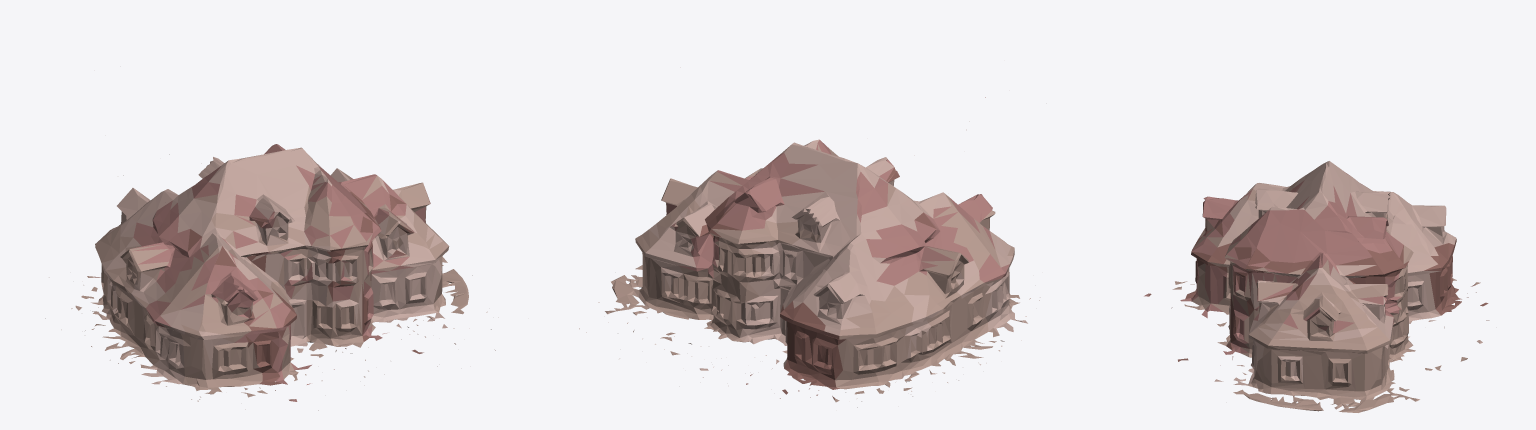
Rendered from mansion.glb.
3 views of the same model, side by side, from view 1: azimuth 30°, elevation 25°; view 2: azimuth 150°, elevation 25°; view 3: azimuth 270°, elevation 25° (orthographic). The views are drawn at different scales.
Parts seen in each view (by area): view 1: geometry_0; view 2: geometry_0; view 3: geometry_0.
Boxes of the visible parts, x1,y1,x2,y2 form: geometry_0: (45,144,498,410); geometry_0: (579,67,1040,407); geometry_0: (1144,161,1489,412).
Bounding box in the file's own units: 1.98 × 1.33 × 1.98.
